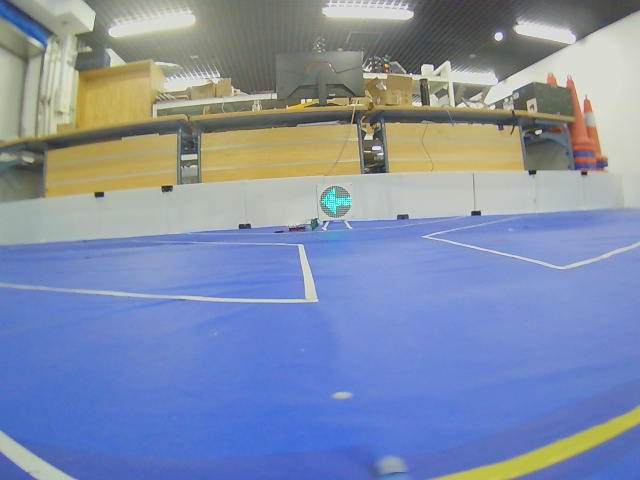left_green: (319, 185, 352, 220)
